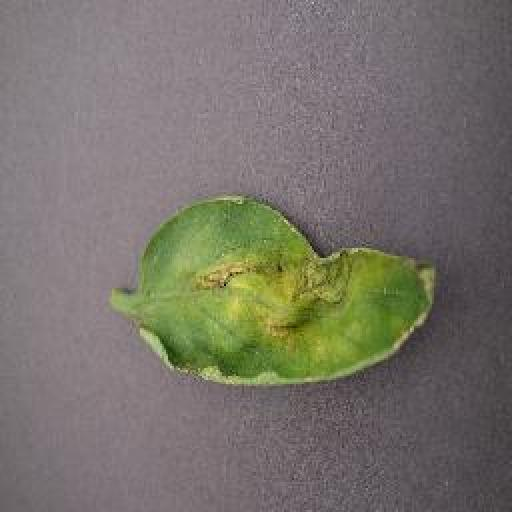Late Blight: (137, 194, 439, 394)
